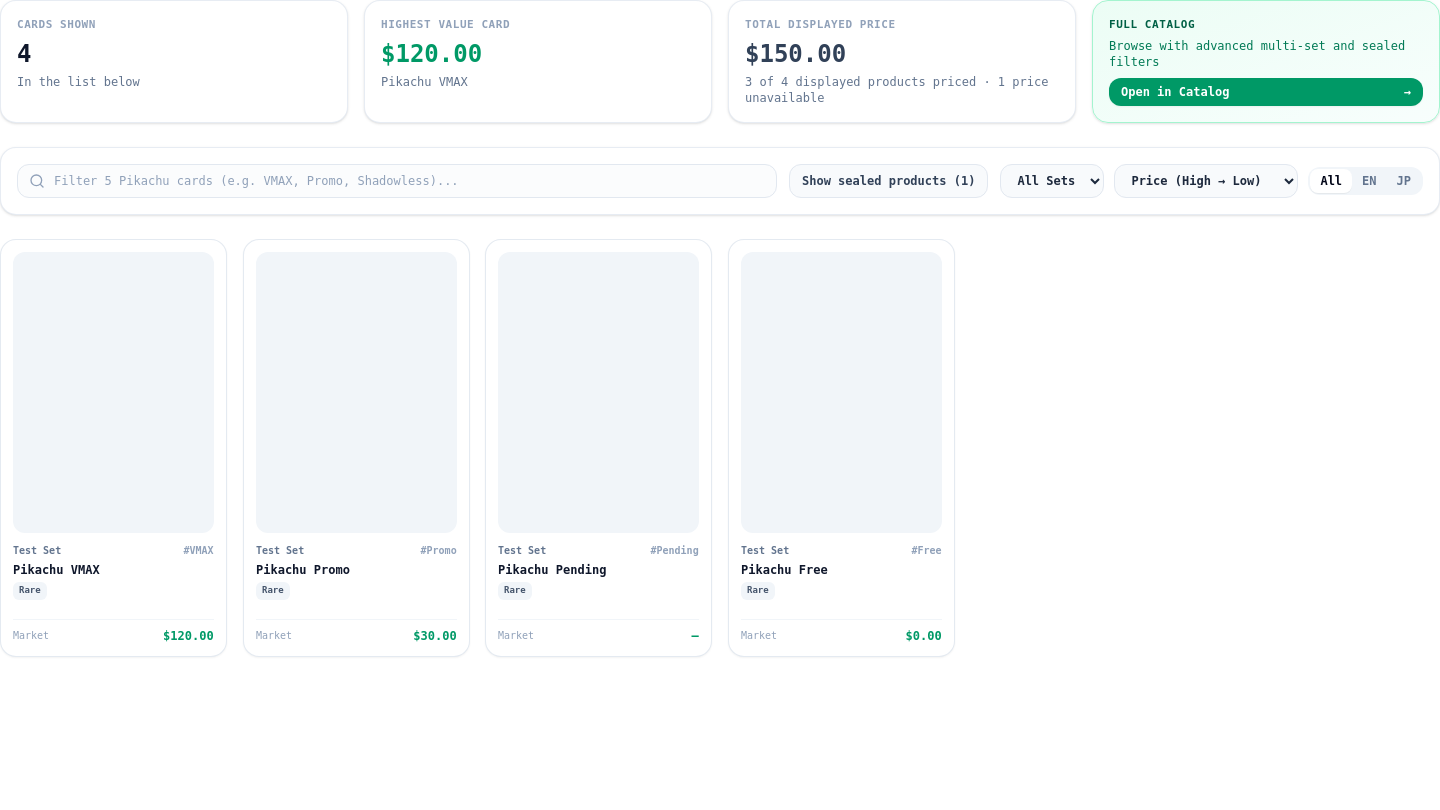
Test: recalculates for the visible search results, zero prices, and empty states
This screenshot has width=1440, height=810.
Step 1. Type "Promo" into the field → {"x": 397, "y": 180}, box top-left (17, 164), bottom-right (777, 198)
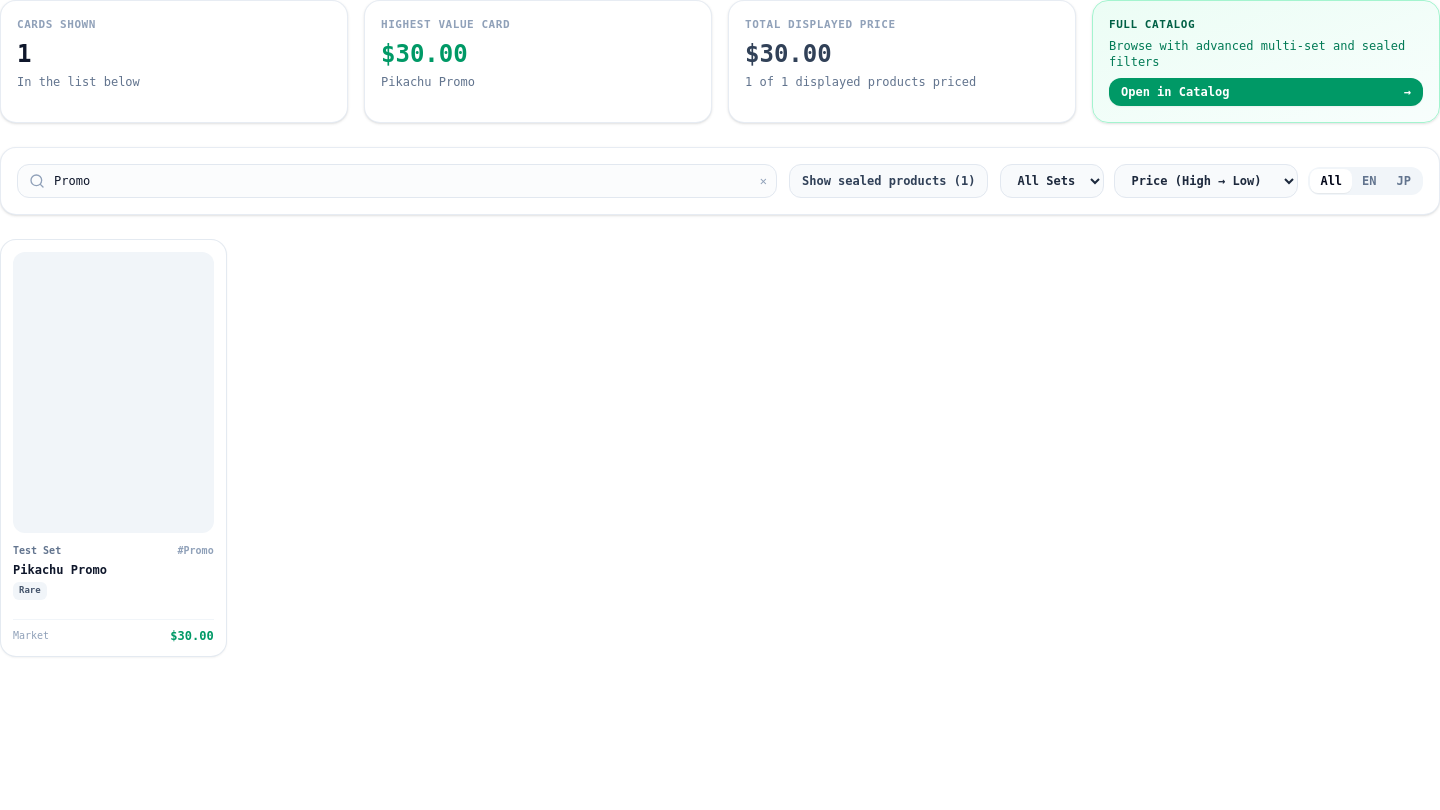
Expected: the text "1" is shown, top-left (17, 40), bottom-right (32, 68)
Expected: the text "$30.00" below "Total displayed price" is shown, top-left (745, 40), bottom-right (832, 68)
Step 2. Replace the text in the field with "Free" → {"x": 397, "y": 180}, box top-left (17, 164), bottom-right (777, 198)
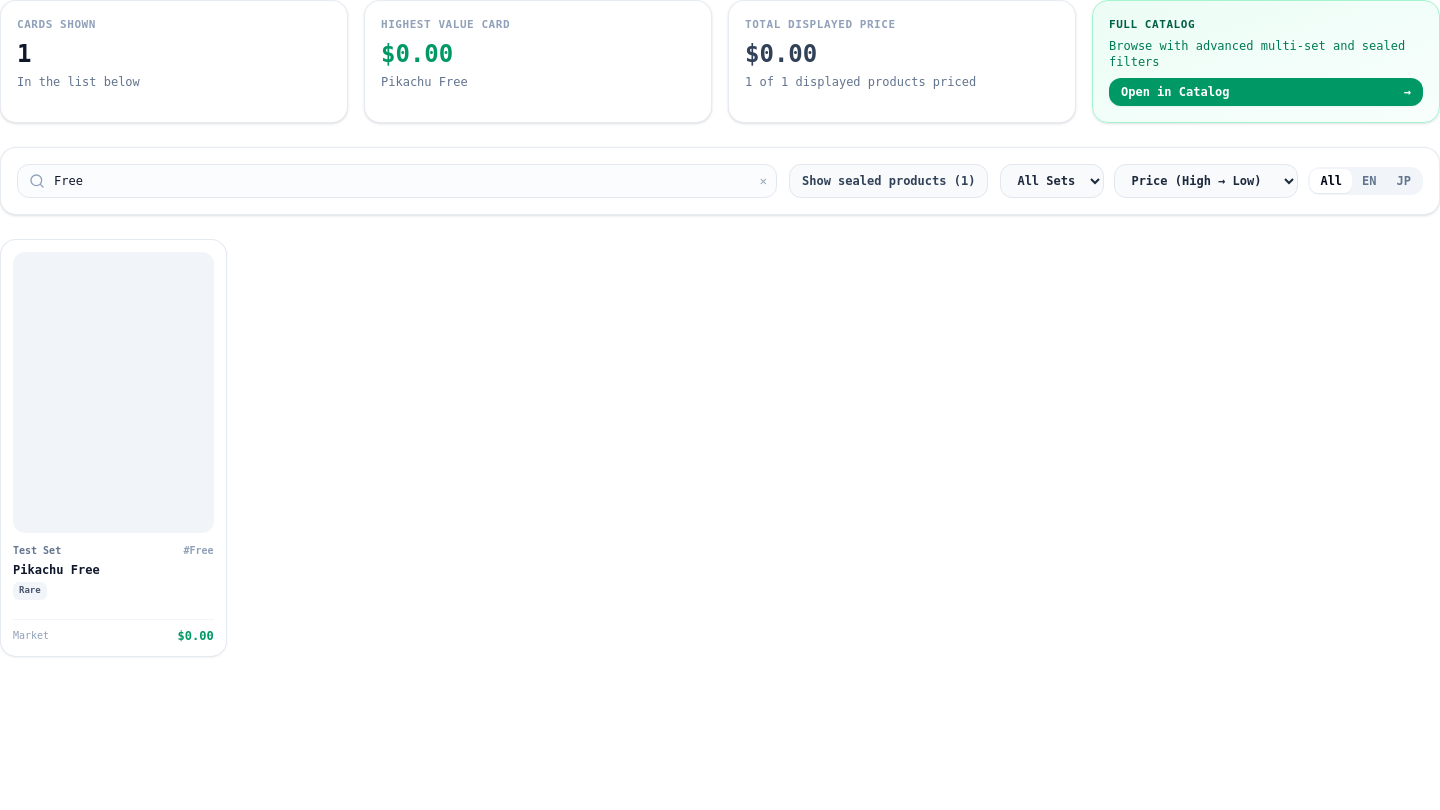
Expected: the text "$0.00" below "Highest Value Card" is shown, top-left (381, 40), bottom-right (453, 68)
Step 3. Replace the text in the field with "Pending" → {"x": 397, "y": 180}, box top-left (17, 164), bottom-right (777, 198)
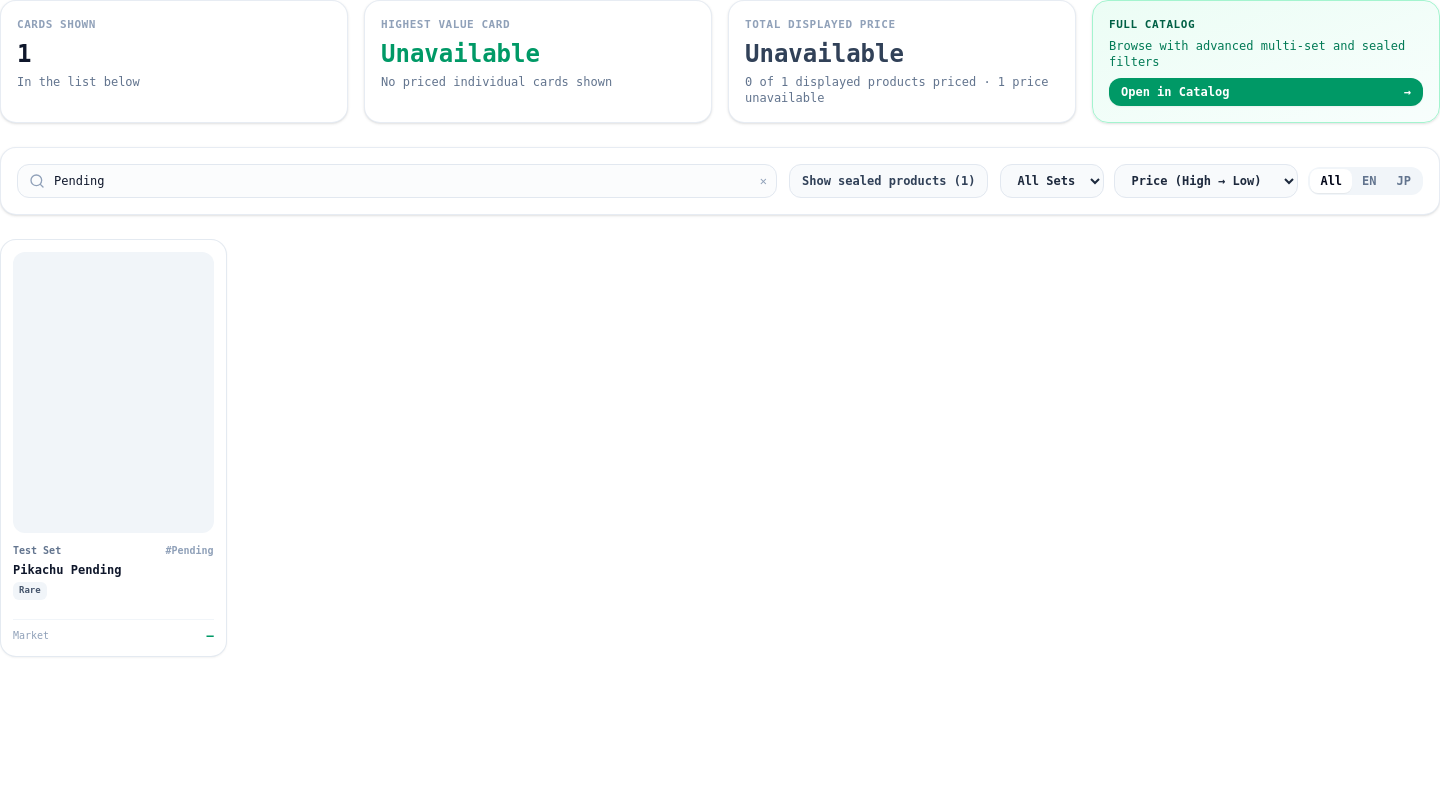
Expected: the text "Unavailable" below "Total displayed price" is shown, top-left (745, 40), bottom-right (904, 68)
Step 4. Replace the text in the field with "no-match" → {"x": 397, "y": 180}, box top-left (17, 164), bottom-right (777, 198)
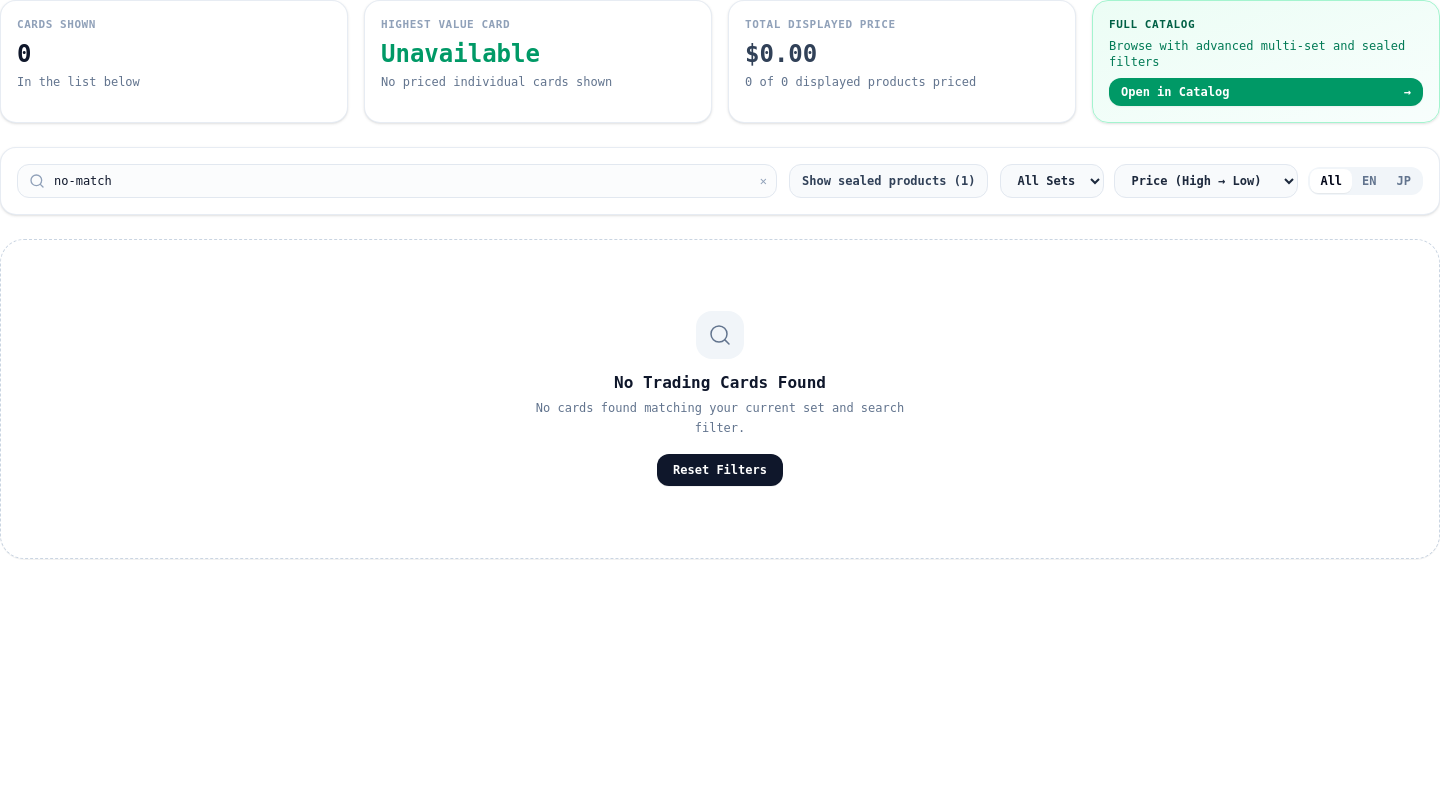
Expected: the text "0" is shown, top-left (17, 40), bottom-right (32, 68)
Expected: the text "$0.00" is shown, top-left (745, 40), bottom-right (817, 68)
